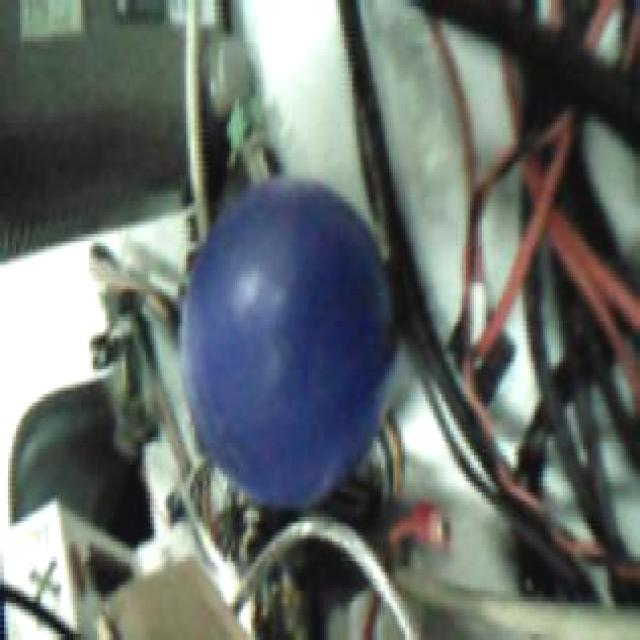BallPurple: (181, 178, 397, 506)
